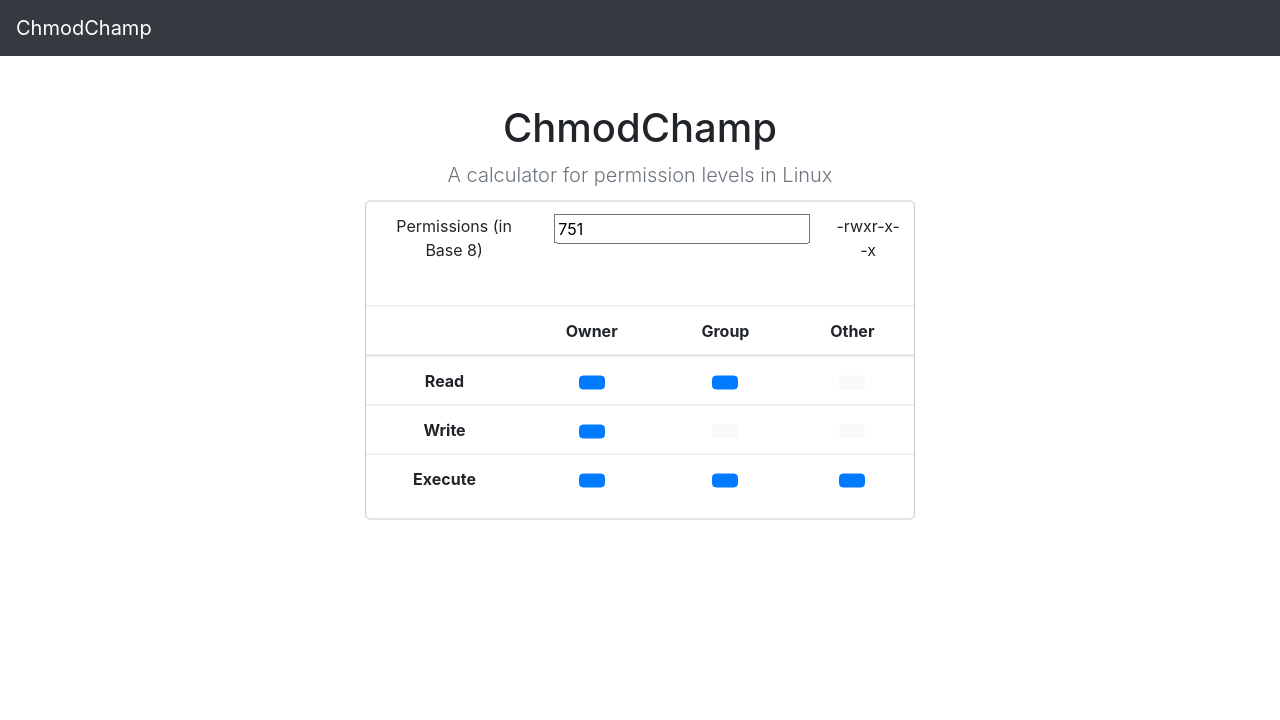
Test case: ChmodChamp Core Function Tests › Should have dashes for all permission symbols in the permission field when the input field is empty
Clear the field at (682, 229), box [554,214,810,244]
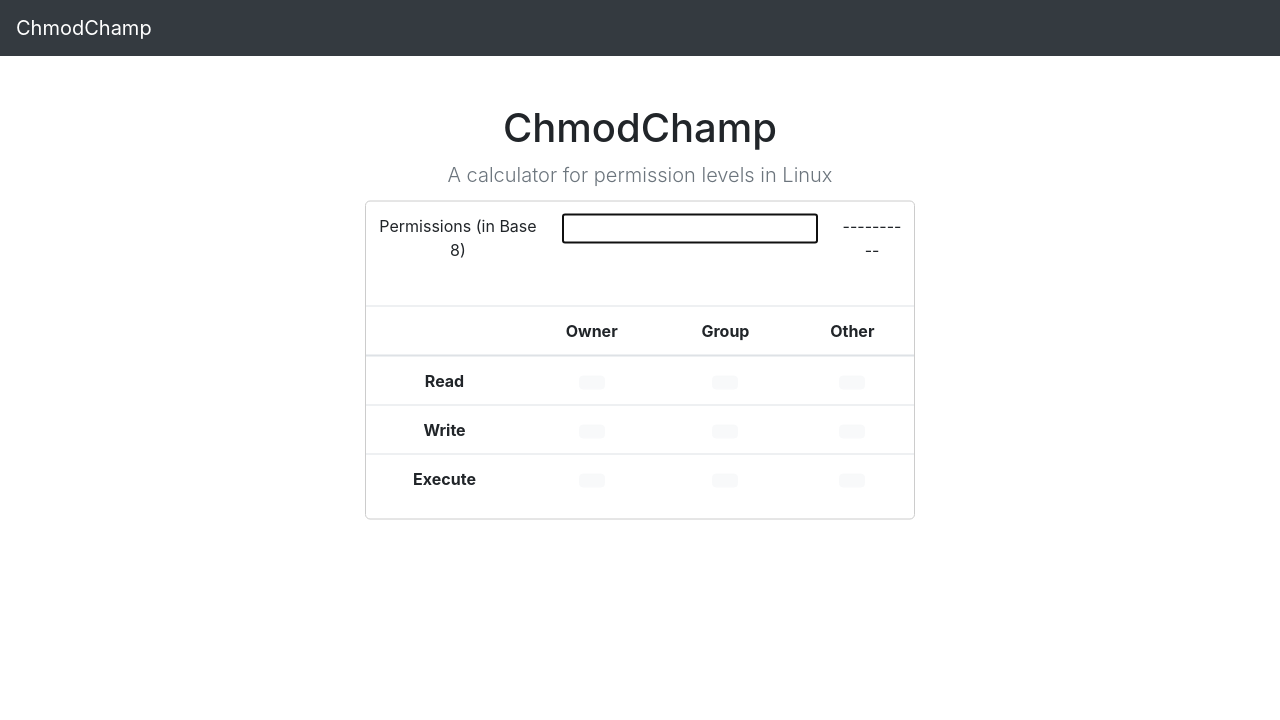
expect the text "----------" is shown: met, box [842,214,902,262]
